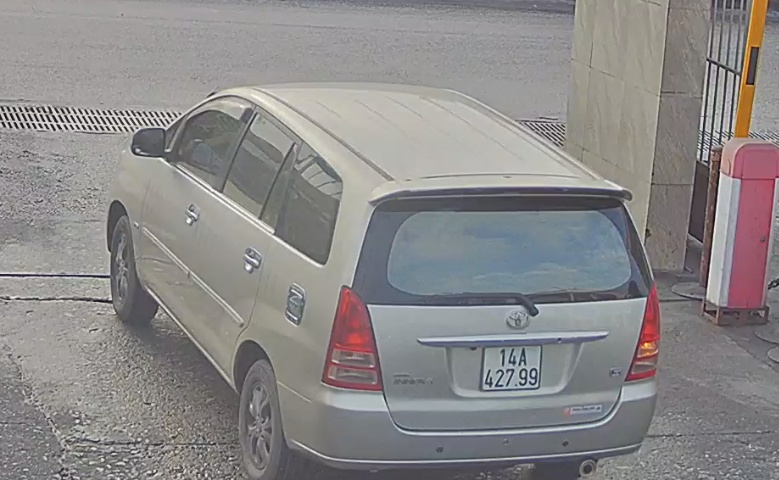vehicle plate: (477, 339, 545, 394)
